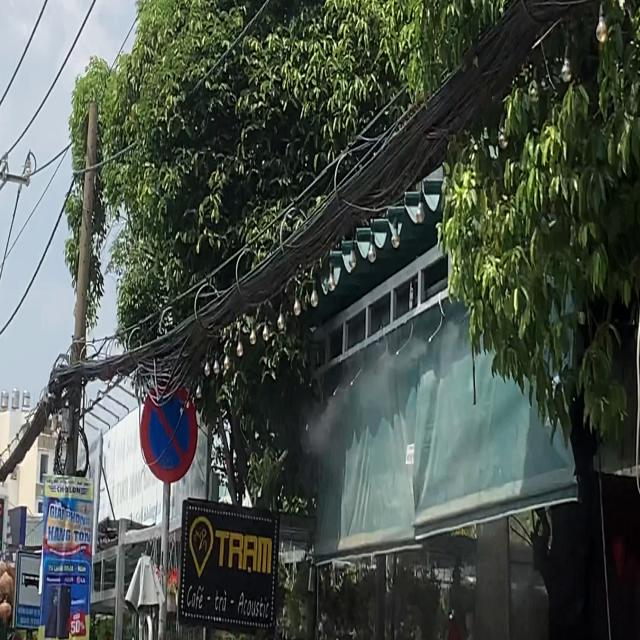Ben xe buyt: (13, 548, 45, 631)
Cam do: (140, 376, 199, 484)
